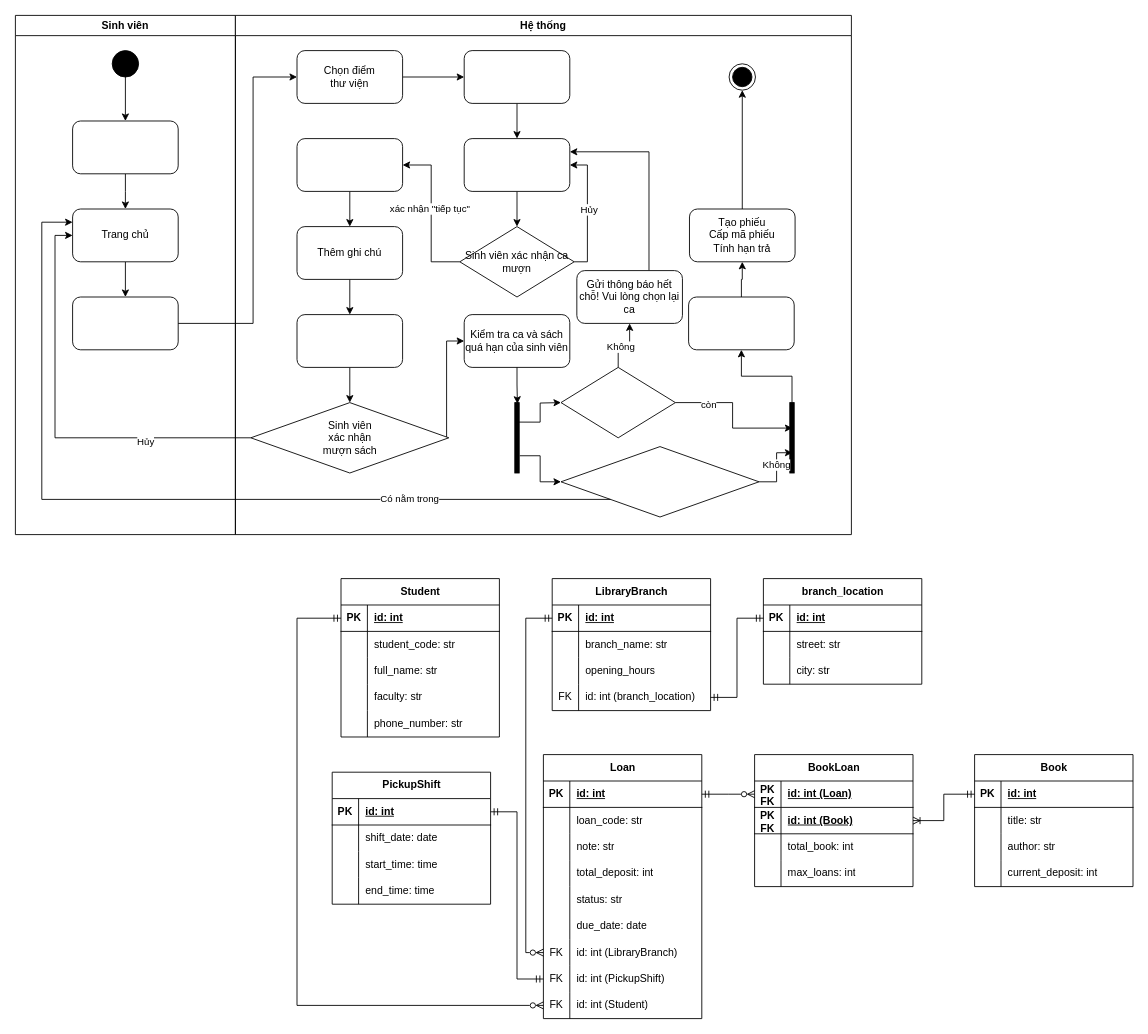
This 1148x1034 diagram has some shape labels left out. Here are the shapes that lost their labels. From the top down, the centre of each, then its label:
[516,76]: Chọn ngày nhận sách
[125,147]: Đăng nhập vào hệ thống
[349,164]: Tìm và chọn sách cần mượn
[516,164]: Hệ thống hiển thị các ca nhận sách
[125,323]: Vào mục mượn sách
[349,340]: Kiểm tra thông tin Sách mượn Tiền cọc
[741,323]: Gửi thông báo mượn sách thành công
[617,402]: Ca còn chỗ trống
[659,481]: Sinh viên không nằm trong danh sách có sách quá hạn
